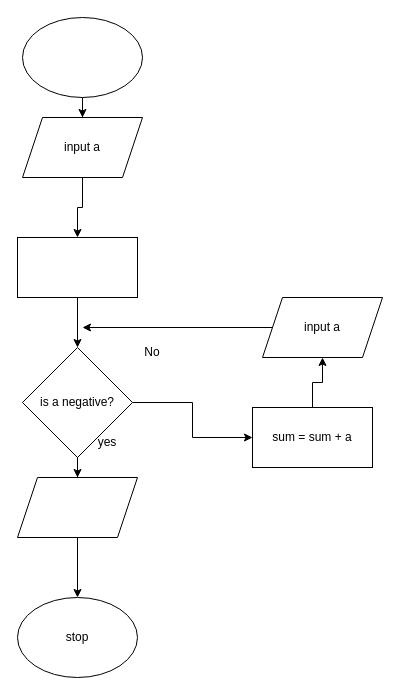
Some shapes in this 400 by 695 pixel diagram are drawn without their labels. Each missing label, with the centre of its shape:
"int sum = 0" belongs at (77,267).
"print sum" belongs at (77,507).
"start" belongs at (82,57).
